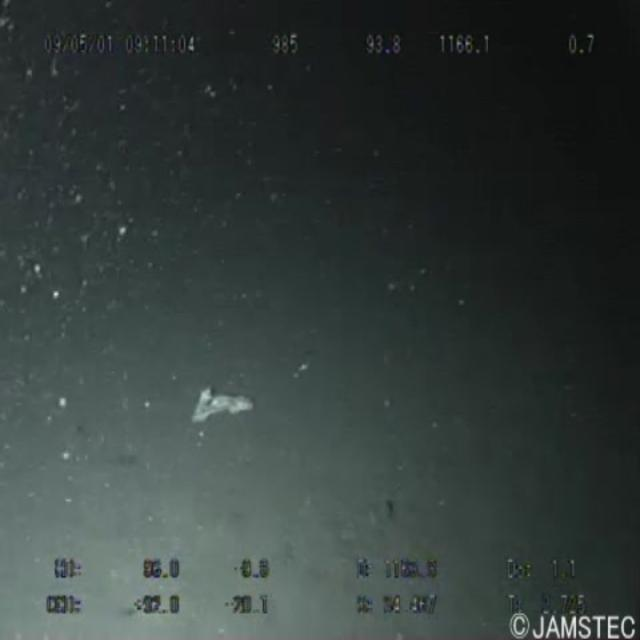Plastic: (190, 360, 264, 442)
